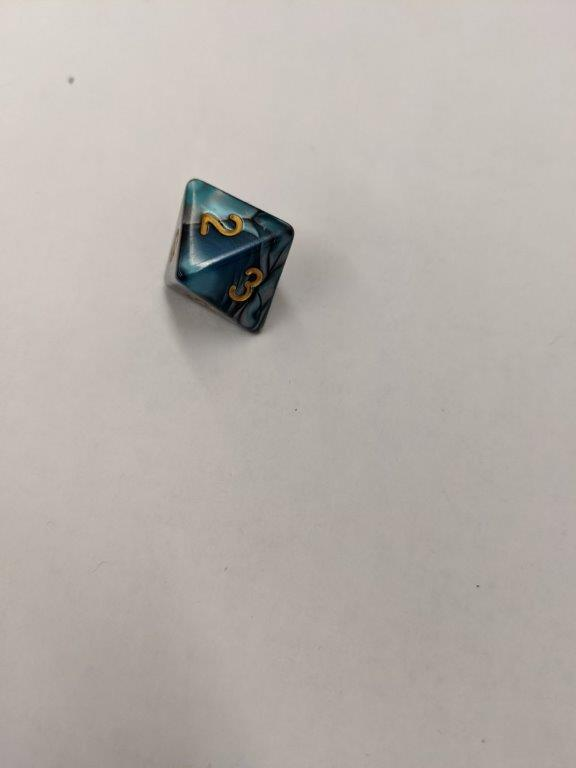d8-2: (162, 178, 295, 336)
